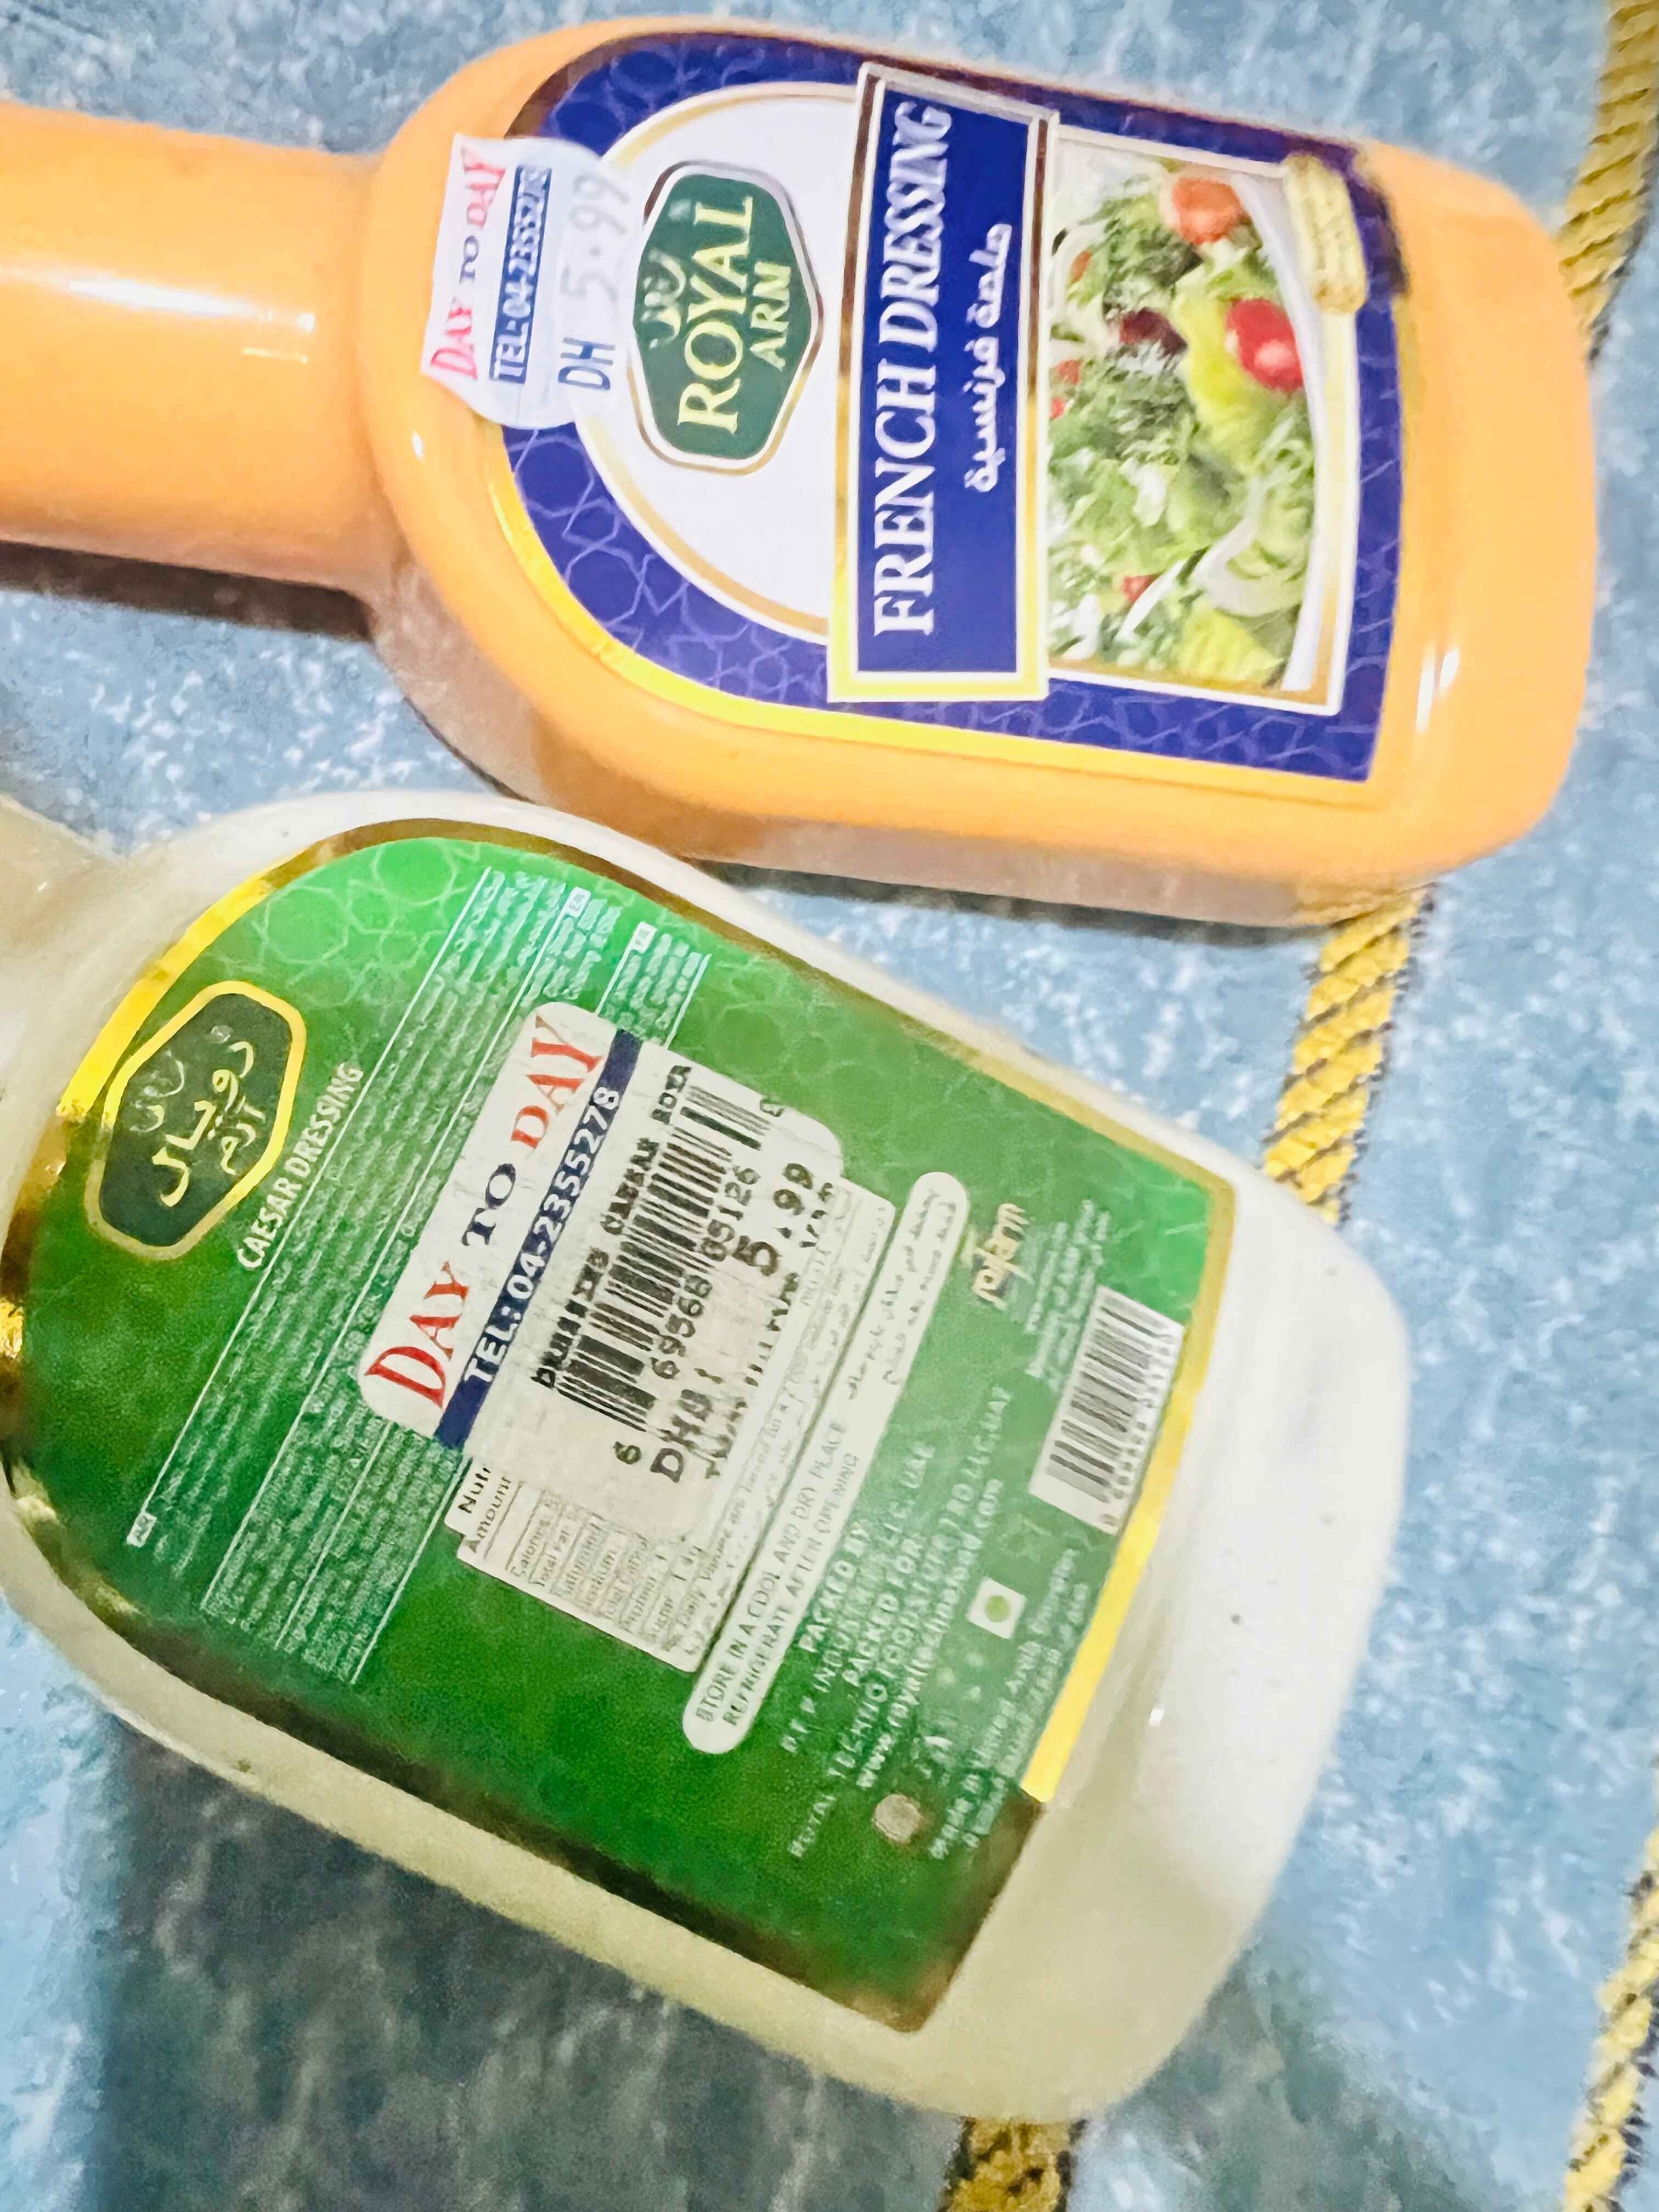PriceTagBig: (349, 1010, 856, 1548)
PriceTagSmall: (406, 129, 640, 441)
